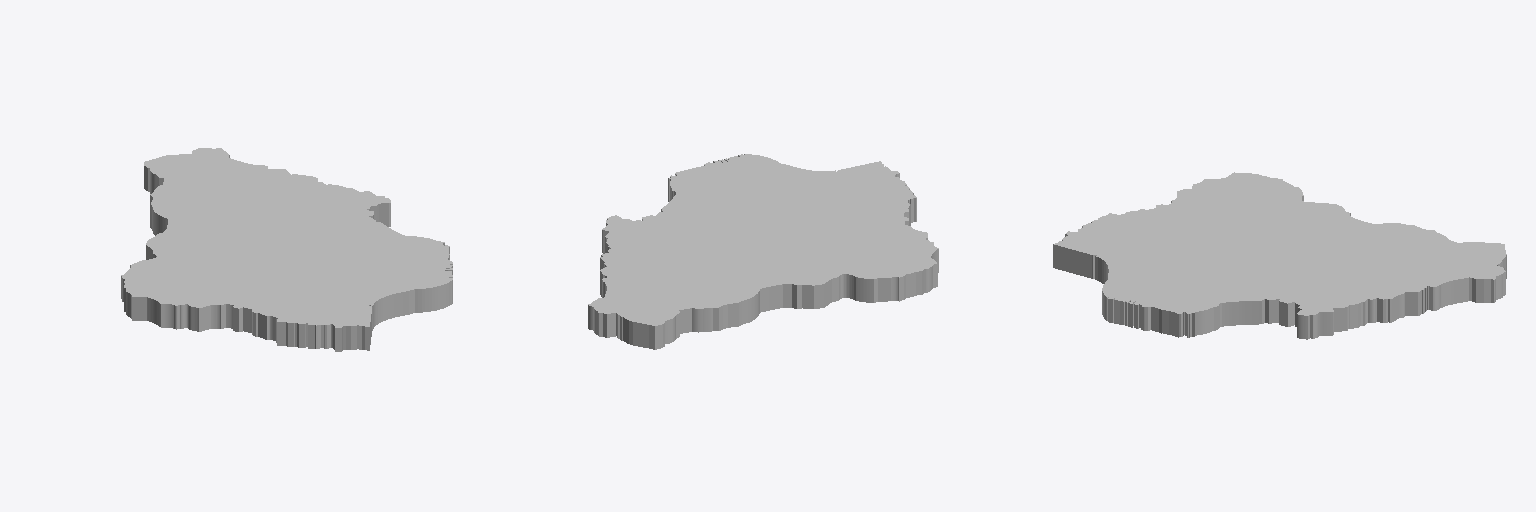
Rendered from 3d_Nigeria.obj.
3 renders of one model, left to right at view 1: azimuth 30°, elevation 25°; view 2: azimuth 150°, elevation 25°; view 3: azimuth 270°, elevation 25°, orthographic.
Visible parts, largest first — view 1: Curve.001; view 2: Curve.001; view 3: Curve.001.
Part boxes in pixels (left/top/right/bottom): Curve.001: left=121, top=148, right=452, bottom=351; Curve.001: left=588, top=154, right=938, bottom=349; Curve.001: left=1053, top=172, right=1506, bottom=339.
Size of the model in its own units: 10.78 by 0.8334 by 14.39.